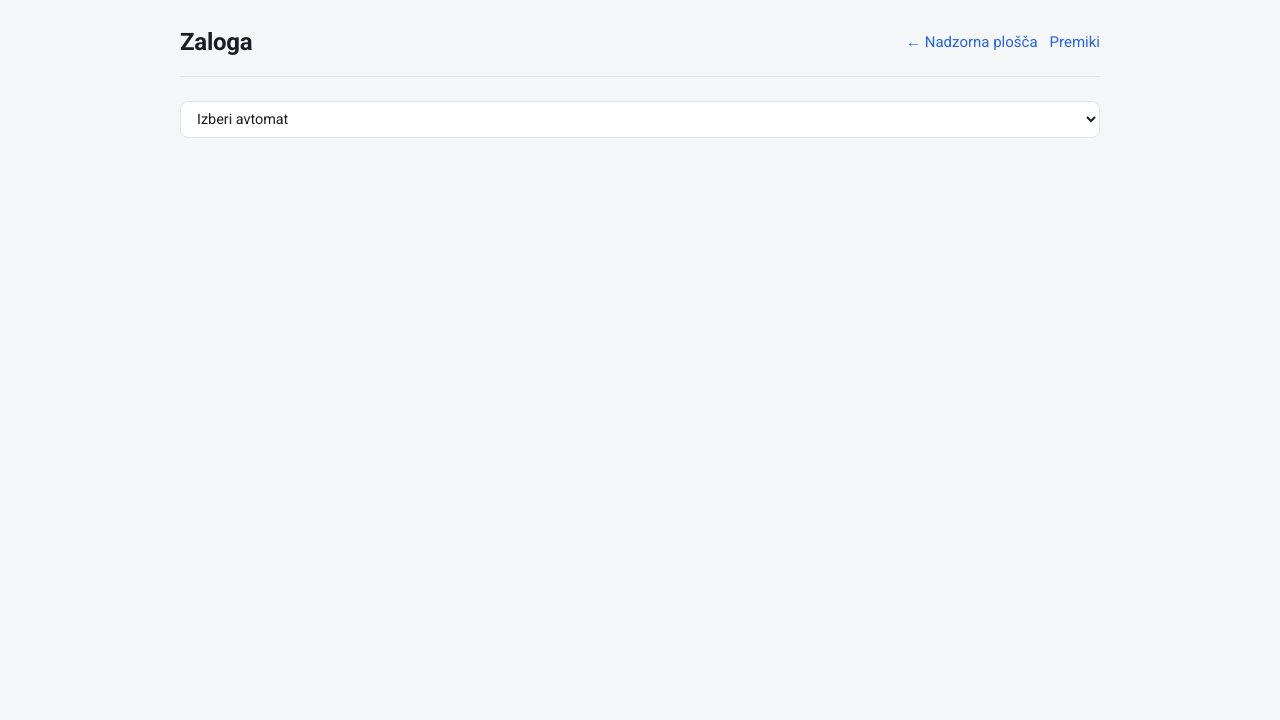
Test case: InventoryPage › sets a slot with PUT and shows SLOT_NOT_EMPTY
The image size is (1280, 720).
Select "MB FERI" in the dropdown named "Avtomat" at (640, 120), box [180,101,1100,138]
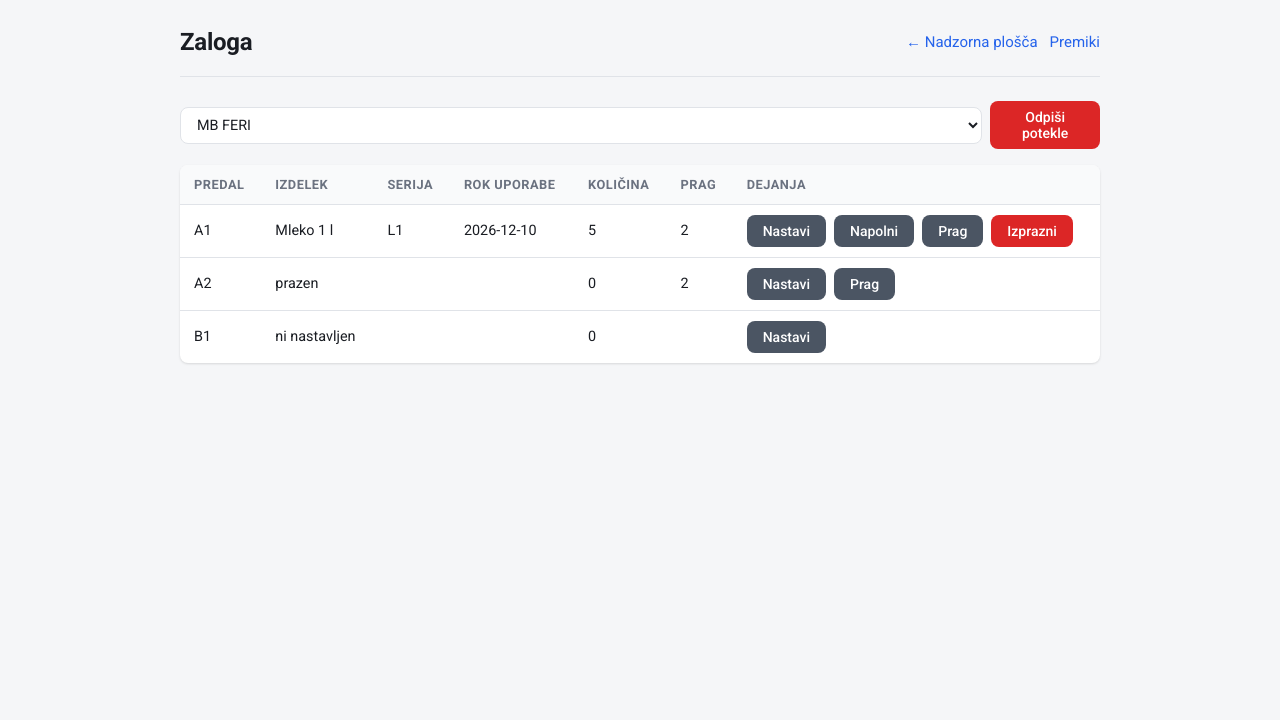
expect the text "Mleko 1 l" is shown: met, box [261,205,373,258]
Click the button "Nastavi" in the row of "B1".
click(786, 337)  # box [747,321,826,353]
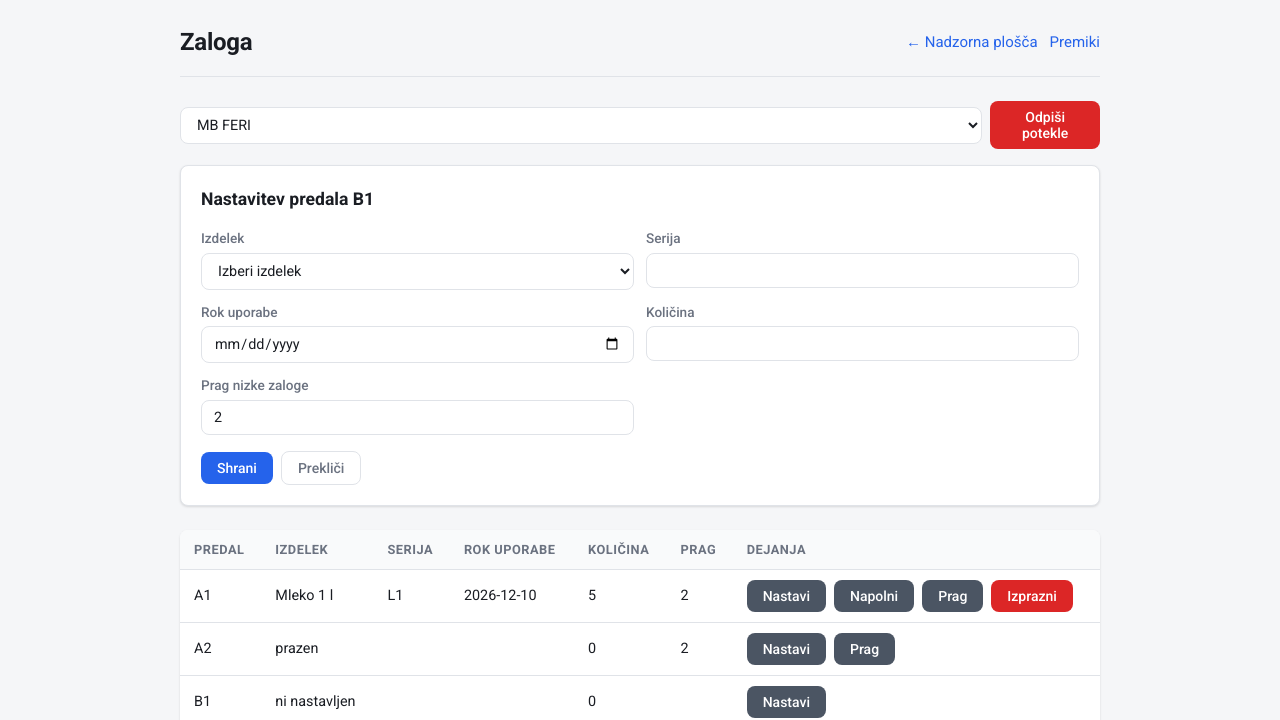
Select "Mleko 1 l" in the dropdown labelled "Izdelek" at (418, 271), box [201,253,634,290]
Type "L2" into the field labelled "Serija".
click(862, 270); type("L2")  # box [646,253,1079,288]
Type "2026-12-20" into the date field labelled "Rok uporabe".
click(418, 345); type("2026-12-20")  # box [201,326,634,363]
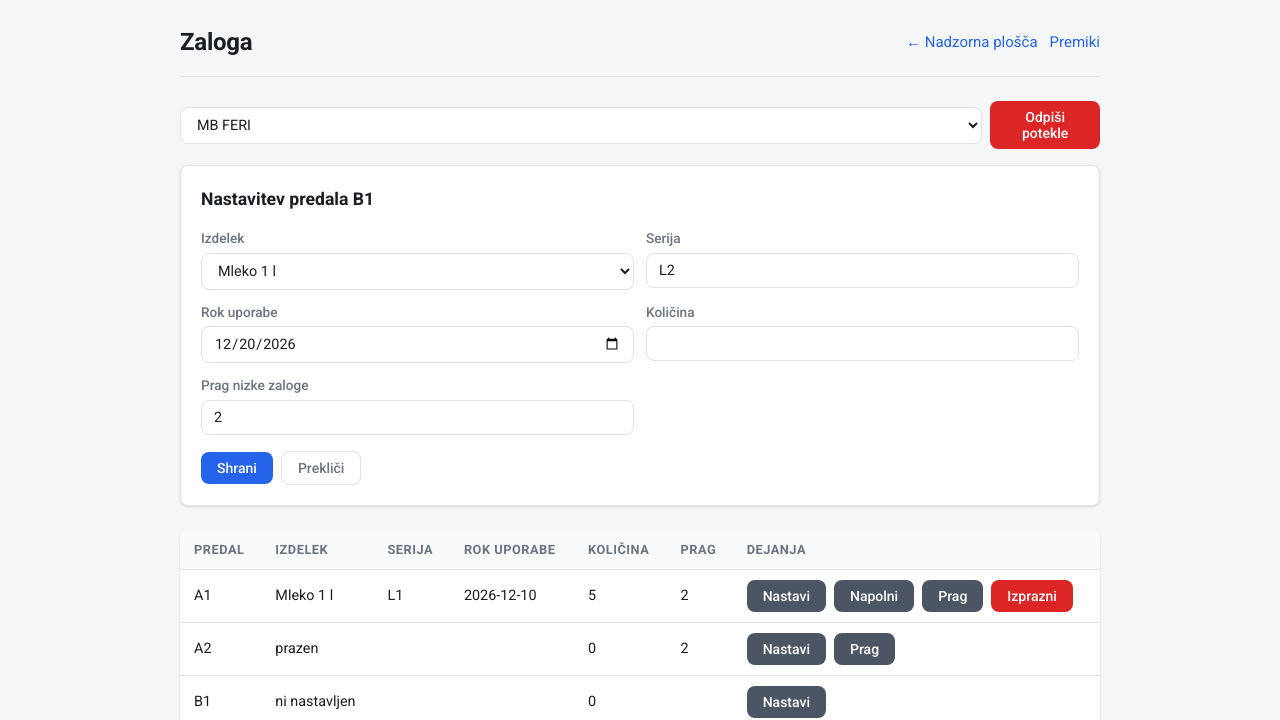
Type "8" into the number field labelled "Količina".
click(862, 344); type("8")  # box [646,326,1079,361]
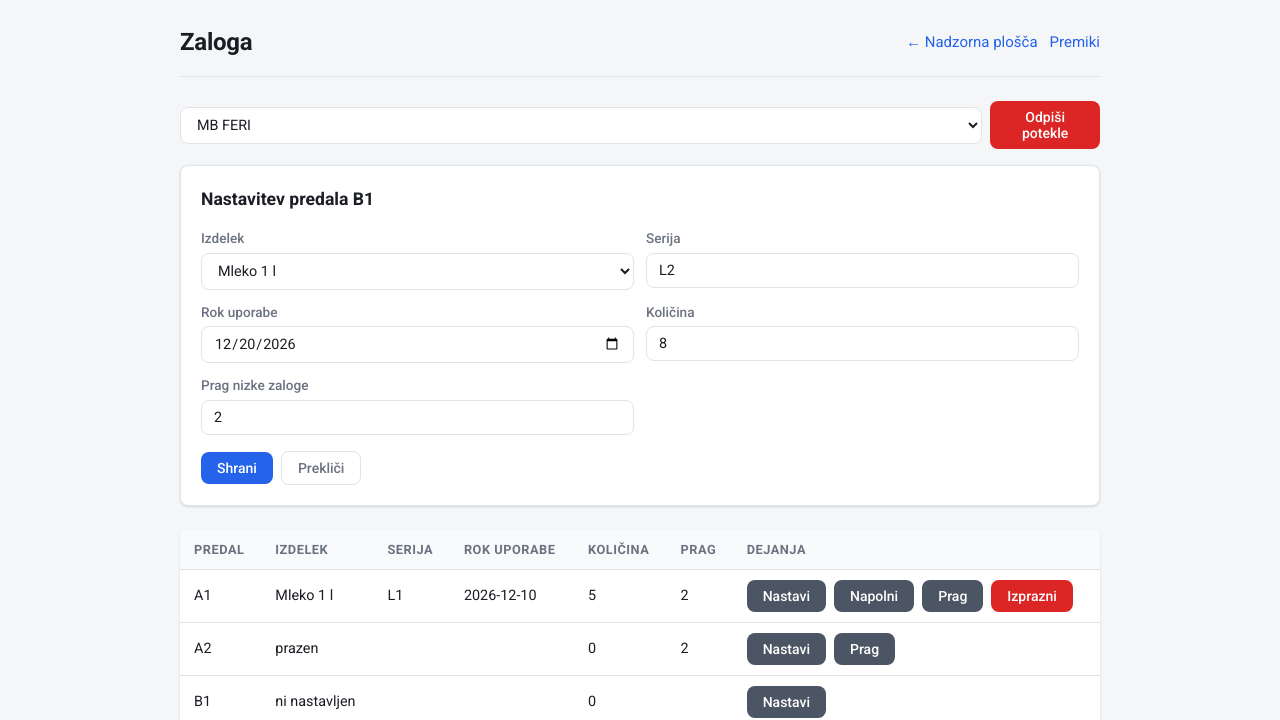
Replace the text in the number field labelled "Prag nizke zaloge" with "3" at (418, 417), box [201,400,634,435]
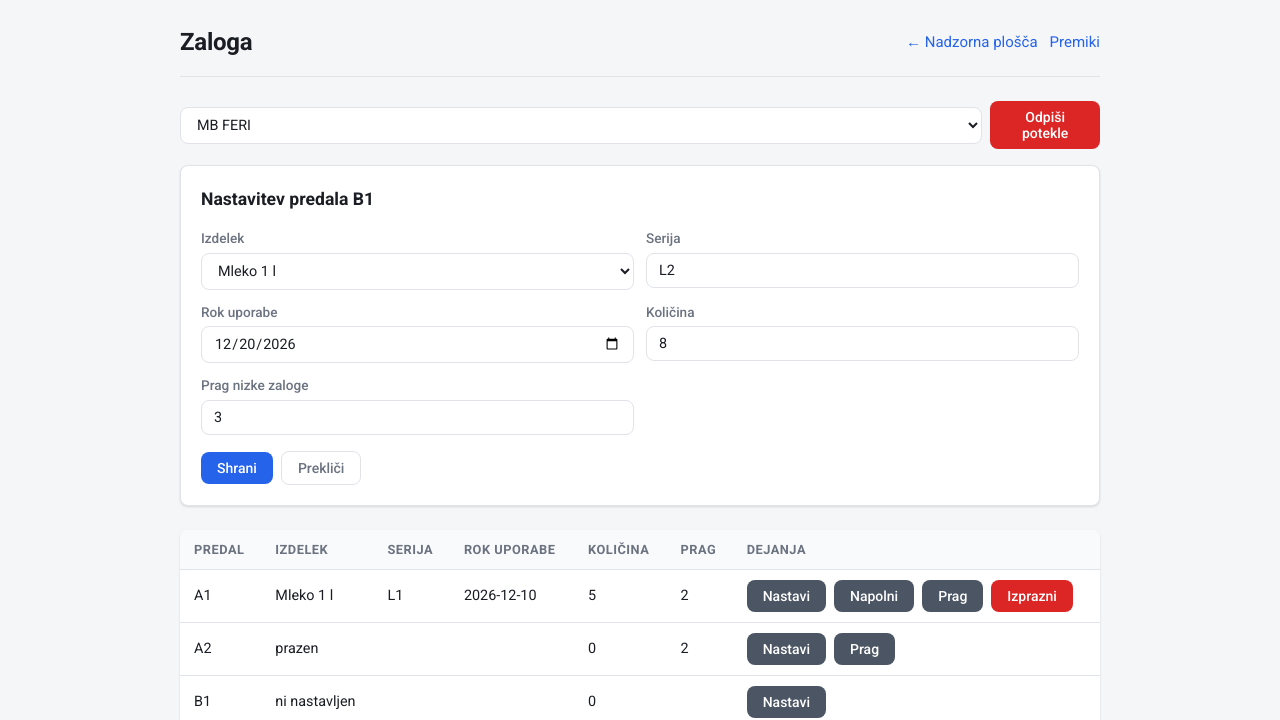
Click the button "Shrani".
click(237, 468)  # box [201,452,273,484]
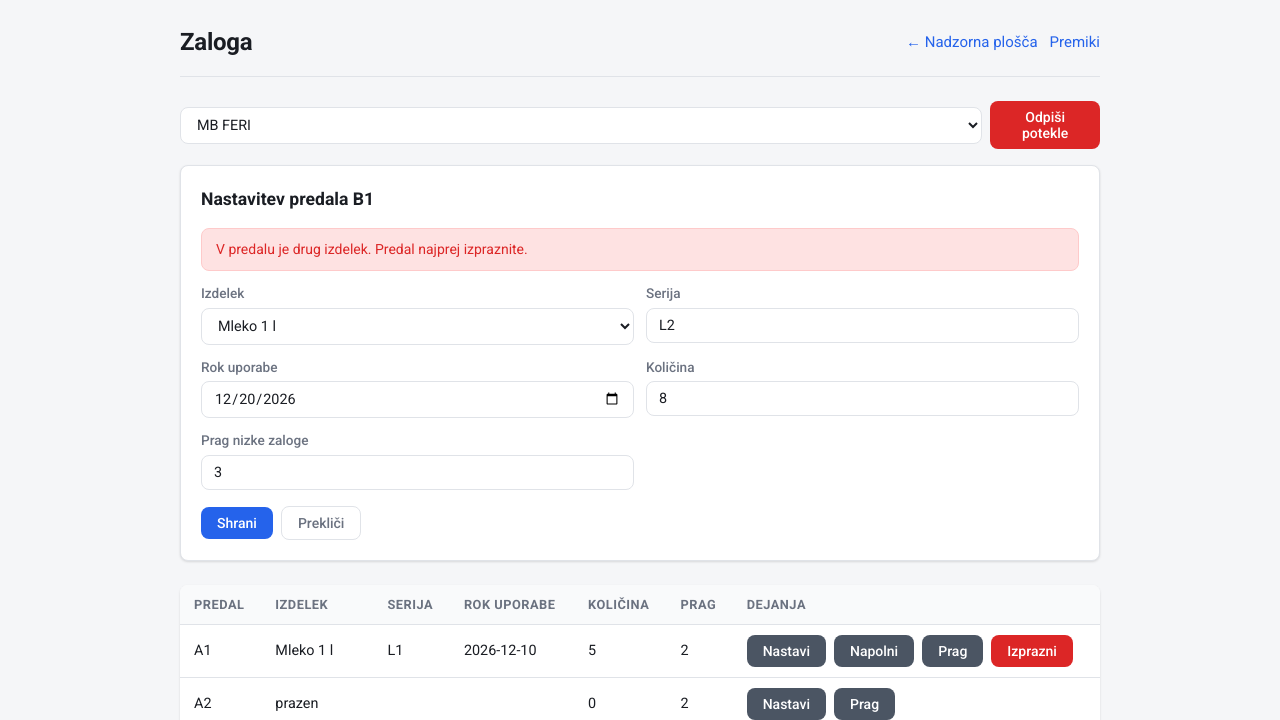
expect the text "V predalu je drug izdelek. Predal najprej izpraznite." is shown: met, box [201,228,1079,271]
